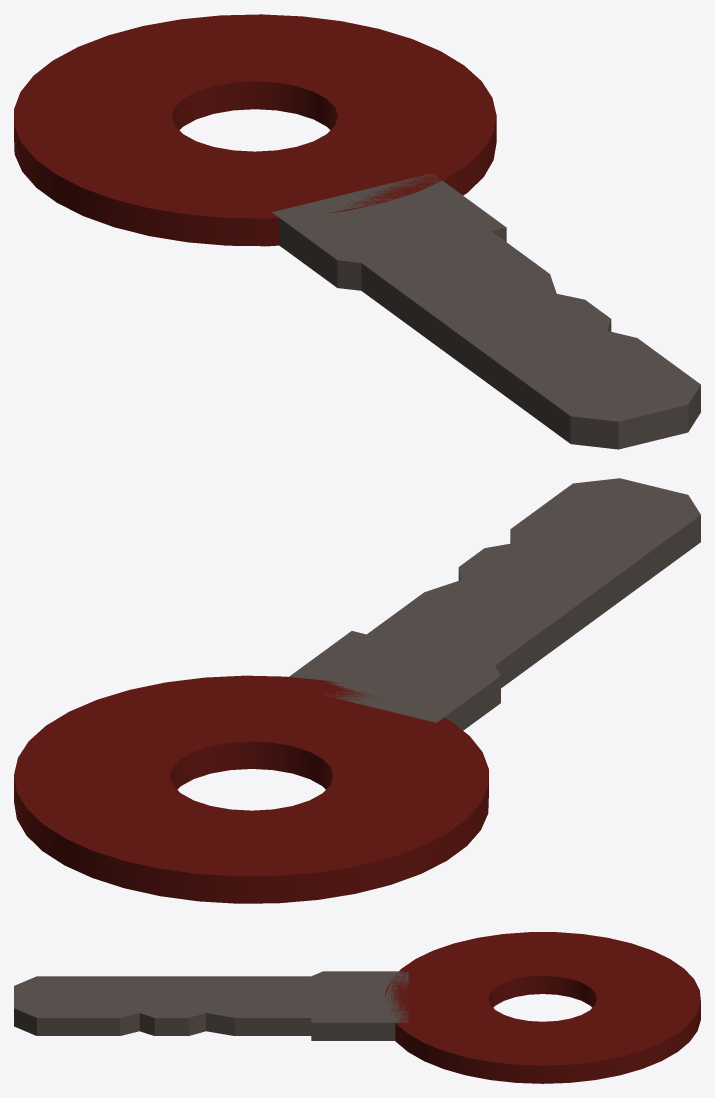
The picture shows the model from 3 angles, top to bottom: view 1: azimuth 30°, elevation 25°; view 2: azimuth 150°, elevation 25°; view 3: azimuth 270°, elevation 25°; orthographic projection. The views are drawn at different scales.
Parts seen in each view (by area): view 1: head, blade; view 2: head, blade; view 3: head, blade.
Boxes of the visible parts, box(x1,y1,x2,y2) form: head: box(14, 14, 496, 246); blade: box(272, 173, 700, 449); head: box(14, 675, 488, 903); blade: box(289, 478, 700, 730); head: box(385, 932, 700, 1083); blade: box(14, 971, 408, 1040).
Size of the model in its own units: 0.0276 by 0.00176 by 0.06.
